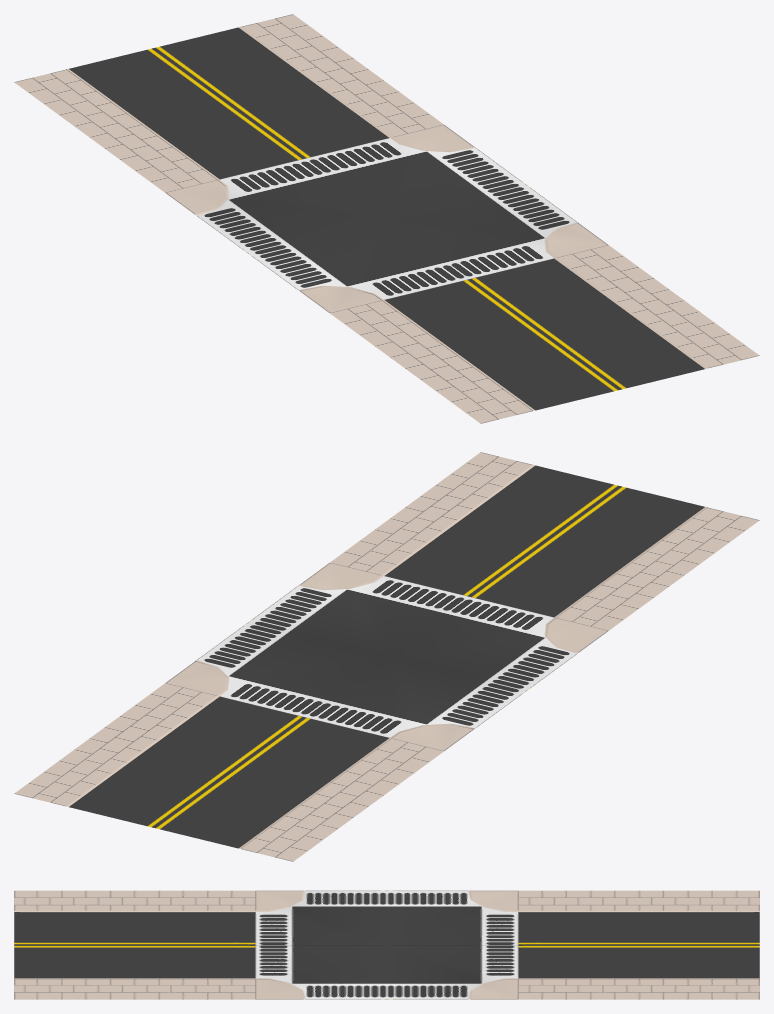
The model's file is Intersection.fbx.
3 views of the same model, one above another, from view 1: azimuth 30°, elevation 25°; view 2: azimuth 150°, elevation 25°; view 3: azimuth 270°, elevation 25° (orthographic). The views are drawn at different scales.
Parts seen in each view (by area): view 1: Intersection; view 2: Intersection; view 3: Intersection.
Part boxes in pixels (box(x1,y1,x2,y2)): Intersection: box(14, 14, 759, 423); Intersection: box(14, 452, 759, 861); Intersection: box(14, 890, 759, 999).
Size of the model in its own units: 6405 by 8.98 by 18551.
1 material, 1 textured.
